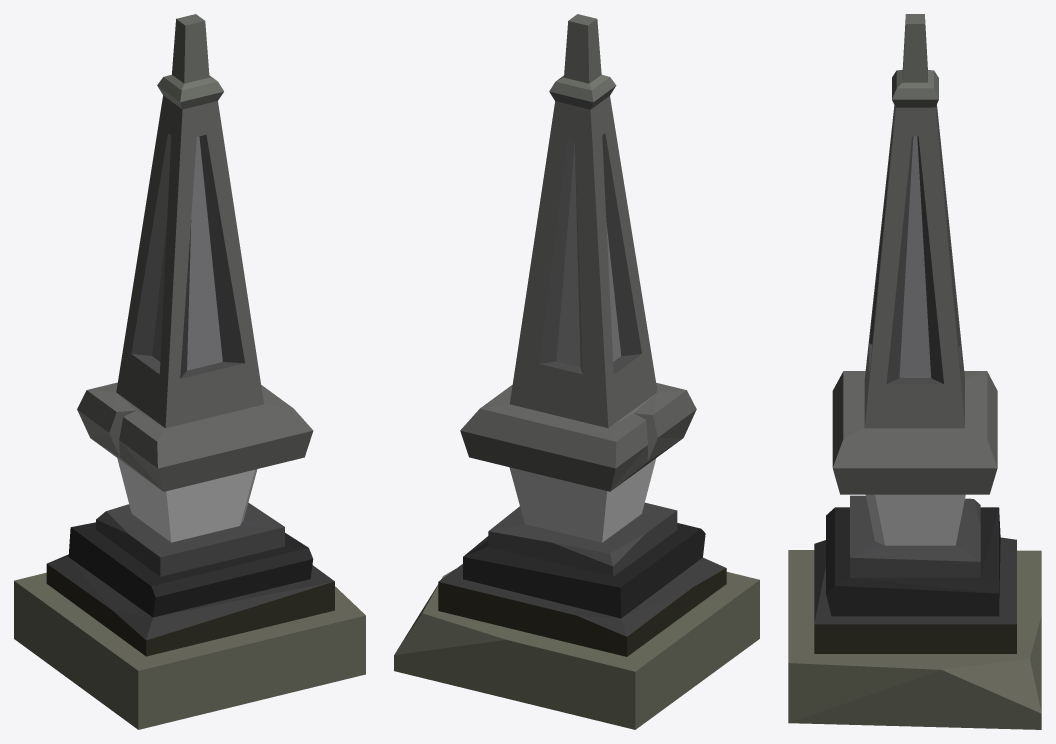
File: ea_bld_obelisk_2b_pre_1_lev1.glb
3 renders of one model, left to right at view 1: azimuth 30°, elevation 25°; view 2: azimuth 150°, elevation 25°; view 3: azimuth 270°, elevation 25°, orthographic.
Visible parts, largest first — view 1: ea_bld_obelisk_2b_pre_1_lev1; view 2: ea_bld_obelisk_2b_pre_1_lev1; view 3: ea_bld_obelisk_2b_pre_1_lev1.
Boxes of the visible parts, x1,y1,x2,y2 form: ea_bld_obelisk_2b_pre_1_lev1: (14,14,365,729); ea_bld_obelisk_2b_pre_1_lev1: (394,14,759,729); ea_bld_obelisk_2b_pre_1_lev1: (788,14,1041,729).
Size of the model in its own units: 2.77 by 6.98 by 2.47.
1 material, 1 textured.
